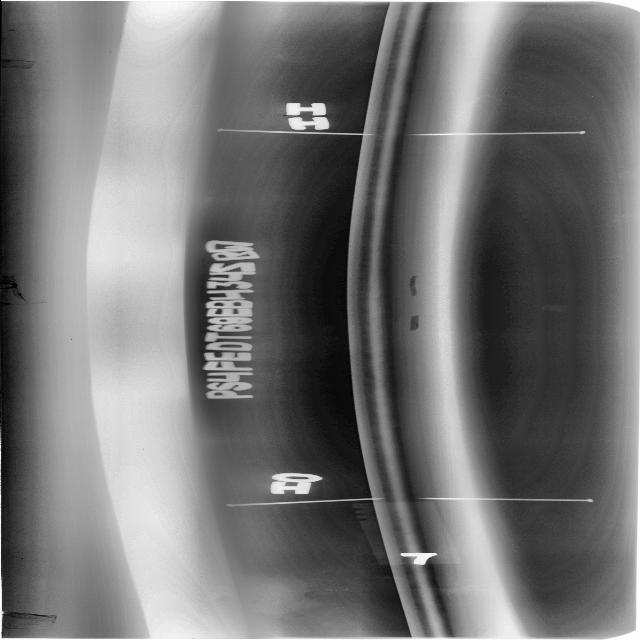porosity: (369, 318, 379, 320), (370, 280, 377, 282), (369, 218, 372, 219)
